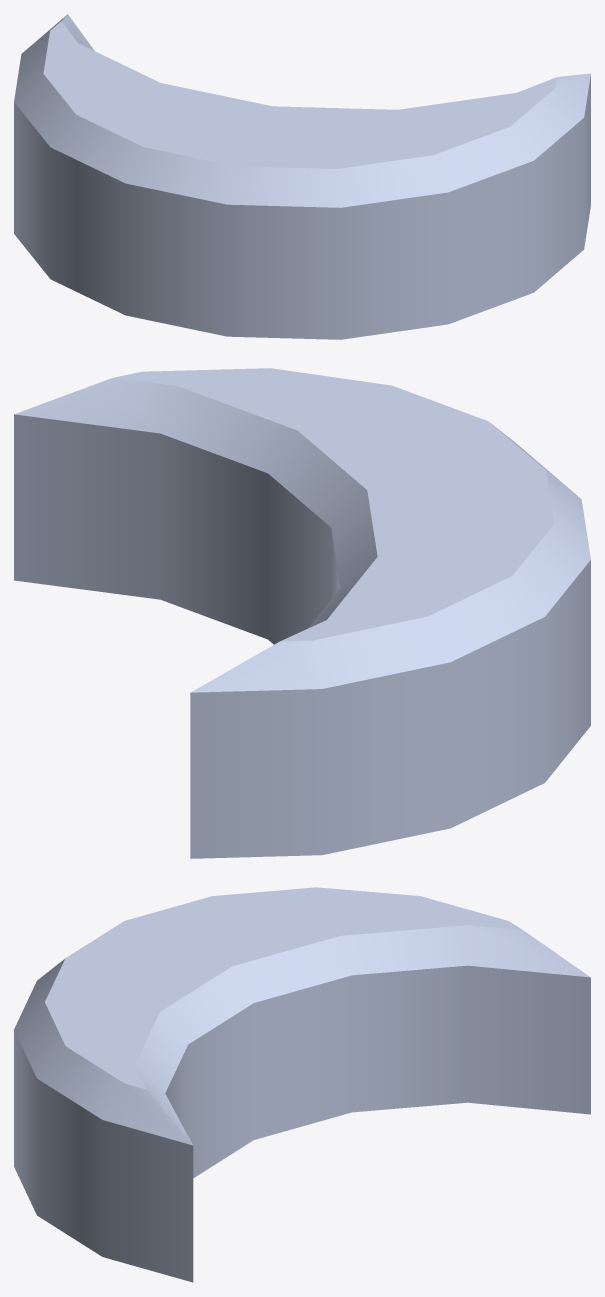
File: SymbolMoon.fbx
The picture shows the model from 3 angles, top to bottom: view 1: azimuth 30°, elevation 25°; view 2: azimuth 150°, elevation 25°; view 3: azimuth 270°, elevation 25°; orthographic projection. The views are drawn at different scales.
Parts seen in each view (by area): view 1: moon; view 2: moon; view 3: moon.
Boxes of the visible parts, <box> form: moon: <box>14,14,590,339</box>; moon: <box>14,368,590,858</box>; moon: <box>14,887,590,1282</box>.
Bounding box in the file's own units: 0.0954 × 0.03 × 0.0954.
1 material, 1 textured.
